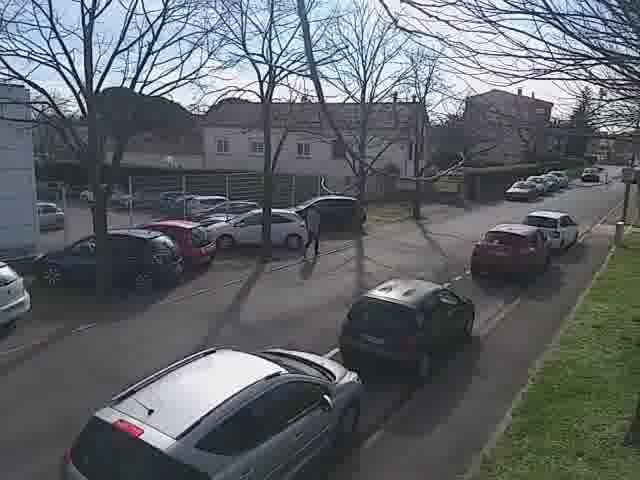persona: (296, 194, 329, 261)
